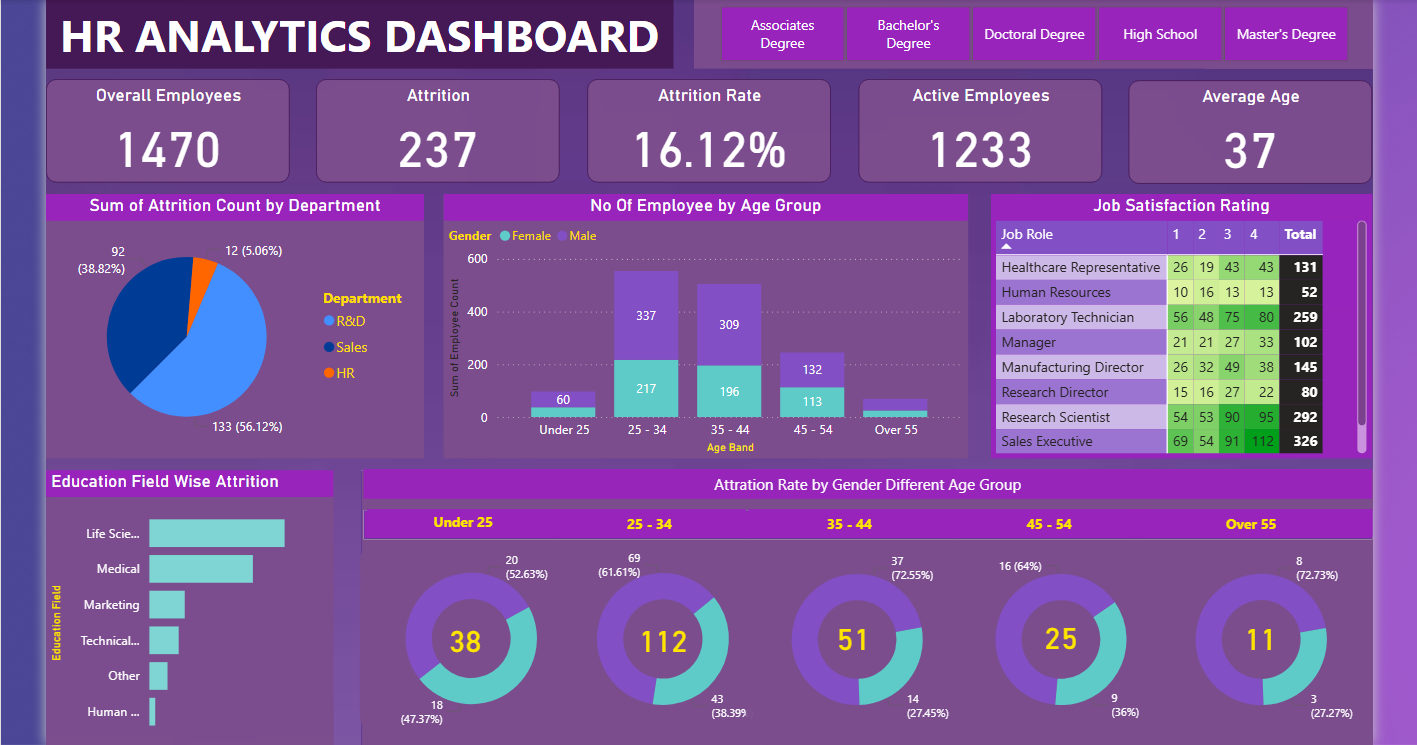

The dashboard page shown, as its layout file describes it:
{"tool":"powerbi","page":{"name":"Page 1","canvas":[1280,720],"ordinal":0},"visuals":[{"type":"card","title":"Overall Employees","fields":{"Values":["Sum(Table1.Employee Count)"]},"box":[0,77,235,100],"z":0},{"type":"card","title":"Attrition","fields":{"Values":["Sum(Table1.Attrition Count)"]},"box":[261,77,235,100],"z":1000},{"type":"card","title":"Attrition Rate","fields":{"Values":["Attrition Rate.Measure"]},"box":[522,77,235,100],"z":2000},{"type":"card","title":"Average Age","fields":{"Values":["Avg(Table1.Age)"]},"box":[1045,78.3,235,100],"z":3000},{"type":"card","title":"Active Employees","fields":{"Values":["Attrition Rate.Active Employees"]},"box":[784,77,235,100],"z":4000},{"type":"textbox","box":[0,0,605.3,67.3],"z":5000},{"type":"pieChart","fields":{"Category":["Table1.Department"],"Y":["Sum(Table1.Attrition Count)"]},"box":[0,188,365,255.2],"z":6000},{"type":"columnChart","title":"No Of Employee by Age Group","fields":{"Category":["Table1.CF_age band"],"Series":["Table1.Gender"],"Y":["Sum(Table1.Employee Count)"]},"box":[384.2,188,506.3,255.2],"z":7000},{"type":"pivotTable","title":"Job Satisfaction Rating","fields":{"Rows":["Table1.Job Role"],"Columns":["Table1.Job Satisfaction"],"Values":["Sum(Table1.Employee Count)"]},"box":[912.5,188,367.8,255.2],"z":8000},{"type":"barChart","title":"Education Field Wise Attrition","fields":{"Category":["Table1.Education Field"],"Y":["Sum(Table1.Employee Count)"]},"box":[0,454.3,277.3,266.2],"z":9000},{"type":"shape","box":[303.8,454.3,996.5,266.2],"z":10000},{"type":"donutChart","fields":{"Category":["Table1.Gender"],"Y":["Sum(Table1.Attrition Count)"]},"box":[303,515.7,216,204.9],"z":11000},{"type":"donutChart","fields":{"Category":["Table1.Gender"],"Y":["Sum(Table1.Attrition Count)"]},"box":[487.1,514.6,216.8,205.8],"z":12000},{"type":"donutChart","fields":{"Category":["Table1.Gender"],"Y":["Sum(Table1.Attrition Count)"]},"box":[1064.8,516,216,204.5],"z":13000},{"type":"donutChart","fields":{"Category":["Table1.Gender"],"Y":["Sum(Table1.Attrition Count)"]},"box":[872.7,516,215.4,204.5],"z":14000},{"type":"donutChart","fields":{"Category":["Table1.Gender"],"Y":["Sum(Table1.Attrition Count)"]},"box":[675.1,516,215.4,204.5],"z":15000},{"type":"card","fields":{"Values":["Sum(Table1.Attrition Count)"]},"box":[384.2,599.7,42.5,37],"z":16000},{"type":"card","fields":{"Values":["Sum(Table1.Attrition Count)"]},"box":[1151.3,598.3,42.5,37],"z":17000},{"type":"card","fields":{"Values":["Sum(Table1.Attrition Count)"]},"box":[952.3,598.3,56.3,34.3],"z":18000},{"type":"card","fields":{"Values":["Sum(Table1.Attrition Count)"]},"box":[756.1,598.3,45.3,37],"z":19000},{"type":"card","fields":{"Values":["Sum(Table1.Attrition Count)"]},"box":[566.7,596.9,57.6,42.5],"z":20000},{"type":"shape","box":[306.4,493.4,973.6,27.7],"z":21000},{"type":"textbox","box":[306.4,453.6,973.6,29],"z":22000},{"type":"textbox","box":[310.1,492.6,185.2,27],"z":23000},{"type":"textbox","box":[489.9,492.6,185.2,27.4],"z":24000},{"type":"textbox","box":[677.9,492.6,194.9,27.4],"z":25000},{"type":"textbox","box":[872.7,492.6,192.1,27.4],"z":26000},{"type":"textbox","box":[1045.6,492.6,234.6,27.4],"z":27000},{"type":"slicer","fields":{"Values":["Table1.Education"]},"box":[624.4,0,655.9,67.2],"z":28000}]}

Visuals, with their boxes on the page's 1280x720 design canvas (x1, y1, x2, y2). These are canvas units, not pixel positions in the 1417x745 screenshot, which may show the page scaled, cropped or inside an application window:
"Overall Employees" card: 0/77/235/177
"Attrition" card: 261/77/496/177
"Attrition Rate" card: 522/77/757/177
"Average Age" card: 1045/78/1280/178
"Active Employees" card: 784/77/1019/177
textbox: 0/0/605/67
pieChart - Table1.Department x Sum(Table1.Attrition Count): 0/188/365/443
"No Of Employee by Age Group" columnChart: 384/188/890/443
"Job Satisfaction Rating" pivotTable: 912/188/1280/443
"Education Field Wise Attrition" barChart: 0/454/277/720
shape: 304/454/1300/720
donutChart - Table1.Gender x Sum(Table1.Attrition Count): 303/516/519/721
donutChart - Table1.Gender x Sum(Table1.Attrition Count): 487/515/704/720
donutChart - Table1.Gender x Sum(Table1.Attrition Count): 1065/516/1281/720
donutChart - Table1.Gender x Sum(Table1.Attrition Count): 873/516/1088/720
donutChart - Table1.Gender x Sum(Table1.Attrition Count): 675/516/890/720
card - Sum(Table1.Attrition Count): 384/600/427/637
card - Sum(Table1.Attrition Count): 1151/598/1194/635
card - Sum(Table1.Attrition Count): 952/598/1009/633
card - Sum(Table1.Attrition Count): 756/598/801/635
card - Sum(Table1.Attrition Count): 567/597/624/639
shape: 306/493/1280/521
textbox: 306/454/1280/483
textbox: 310/493/495/520
textbox: 490/493/675/520
textbox: 678/493/873/520
textbox: 873/493/1065/520
textbox: 1046/493/1280/520
slicer - Table1.Education: 624/0/1280/67
